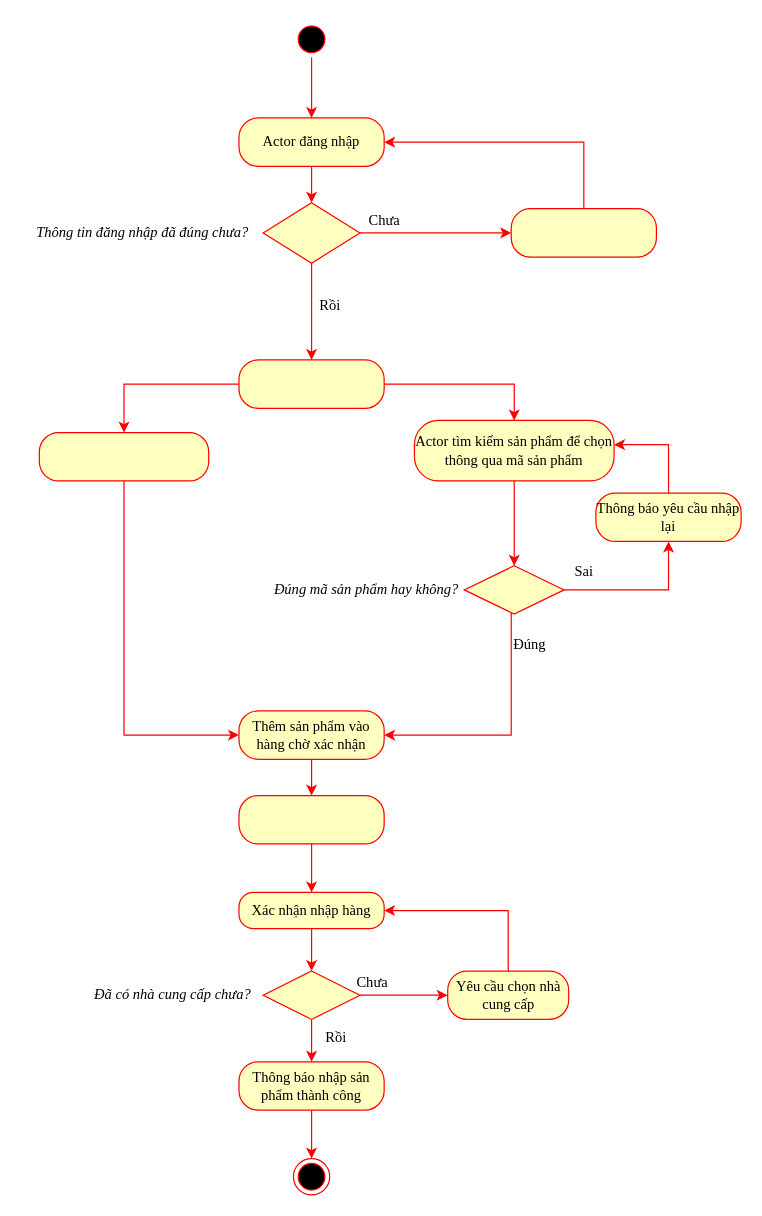
Some shapes in this 762 by 1216 pixel diagram are drawn without their labels. Each missing label, with the centre of its shape:
"Actor chọn sản phẩm trong danh sách sản phẩm" goes at (123,456).
"Actors kiểm tra số lượng sản phẩm trước khi xác nhận" goes at (311,819).
"Chuyển qua giao diện nhập hàng" goes at (311,383).
"Yêu cầu đăng nhập" goes at (583,232).
